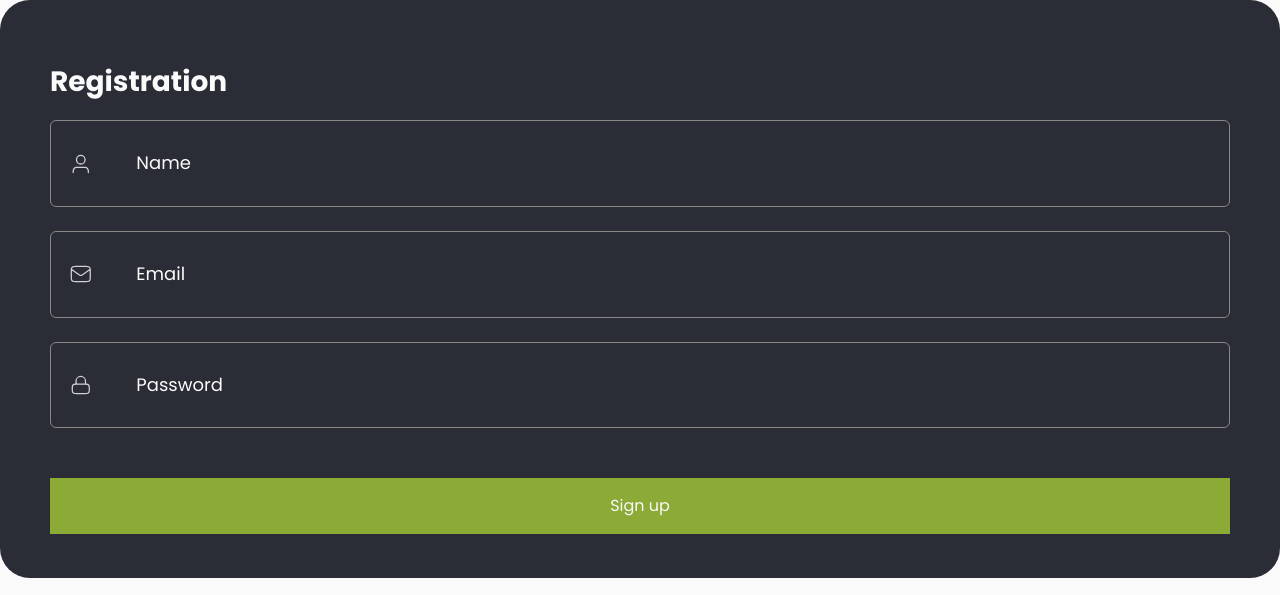
Scenario: RegisterForm › form validation › should display success icon when the name input is valid
The image size is (1280, 595).
In the field with placeholder "Name": (656, 164) top-left (100, 137), bottom-right (1211, 190), type "John Doe"
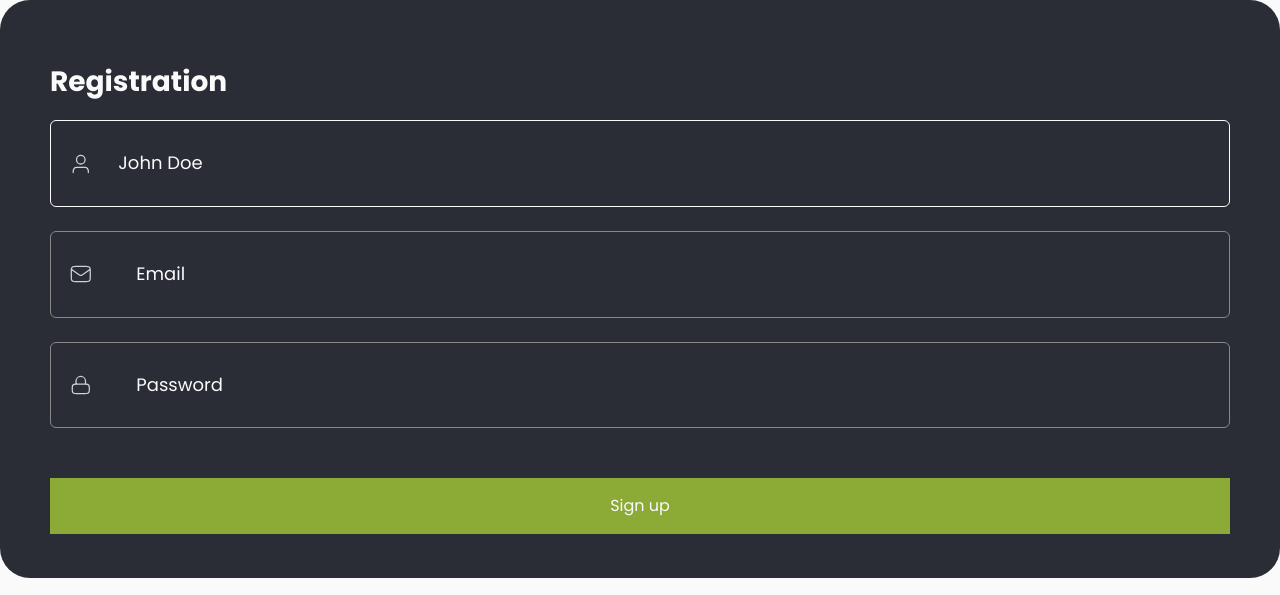
Leave the field with placeholder "Name", box top-left (100, 137), bottom-right (1211, 190)
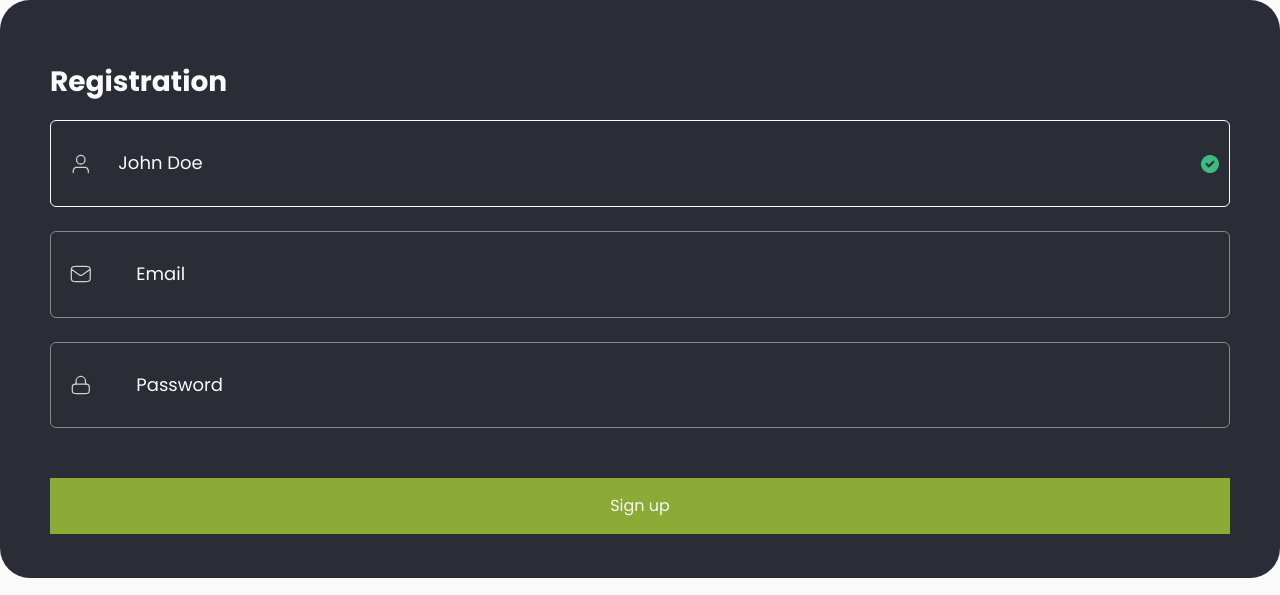
Result: the picture with alt text "Success Icon" is shown at top-left (1201, 155), bottom-right (1219, 173)
